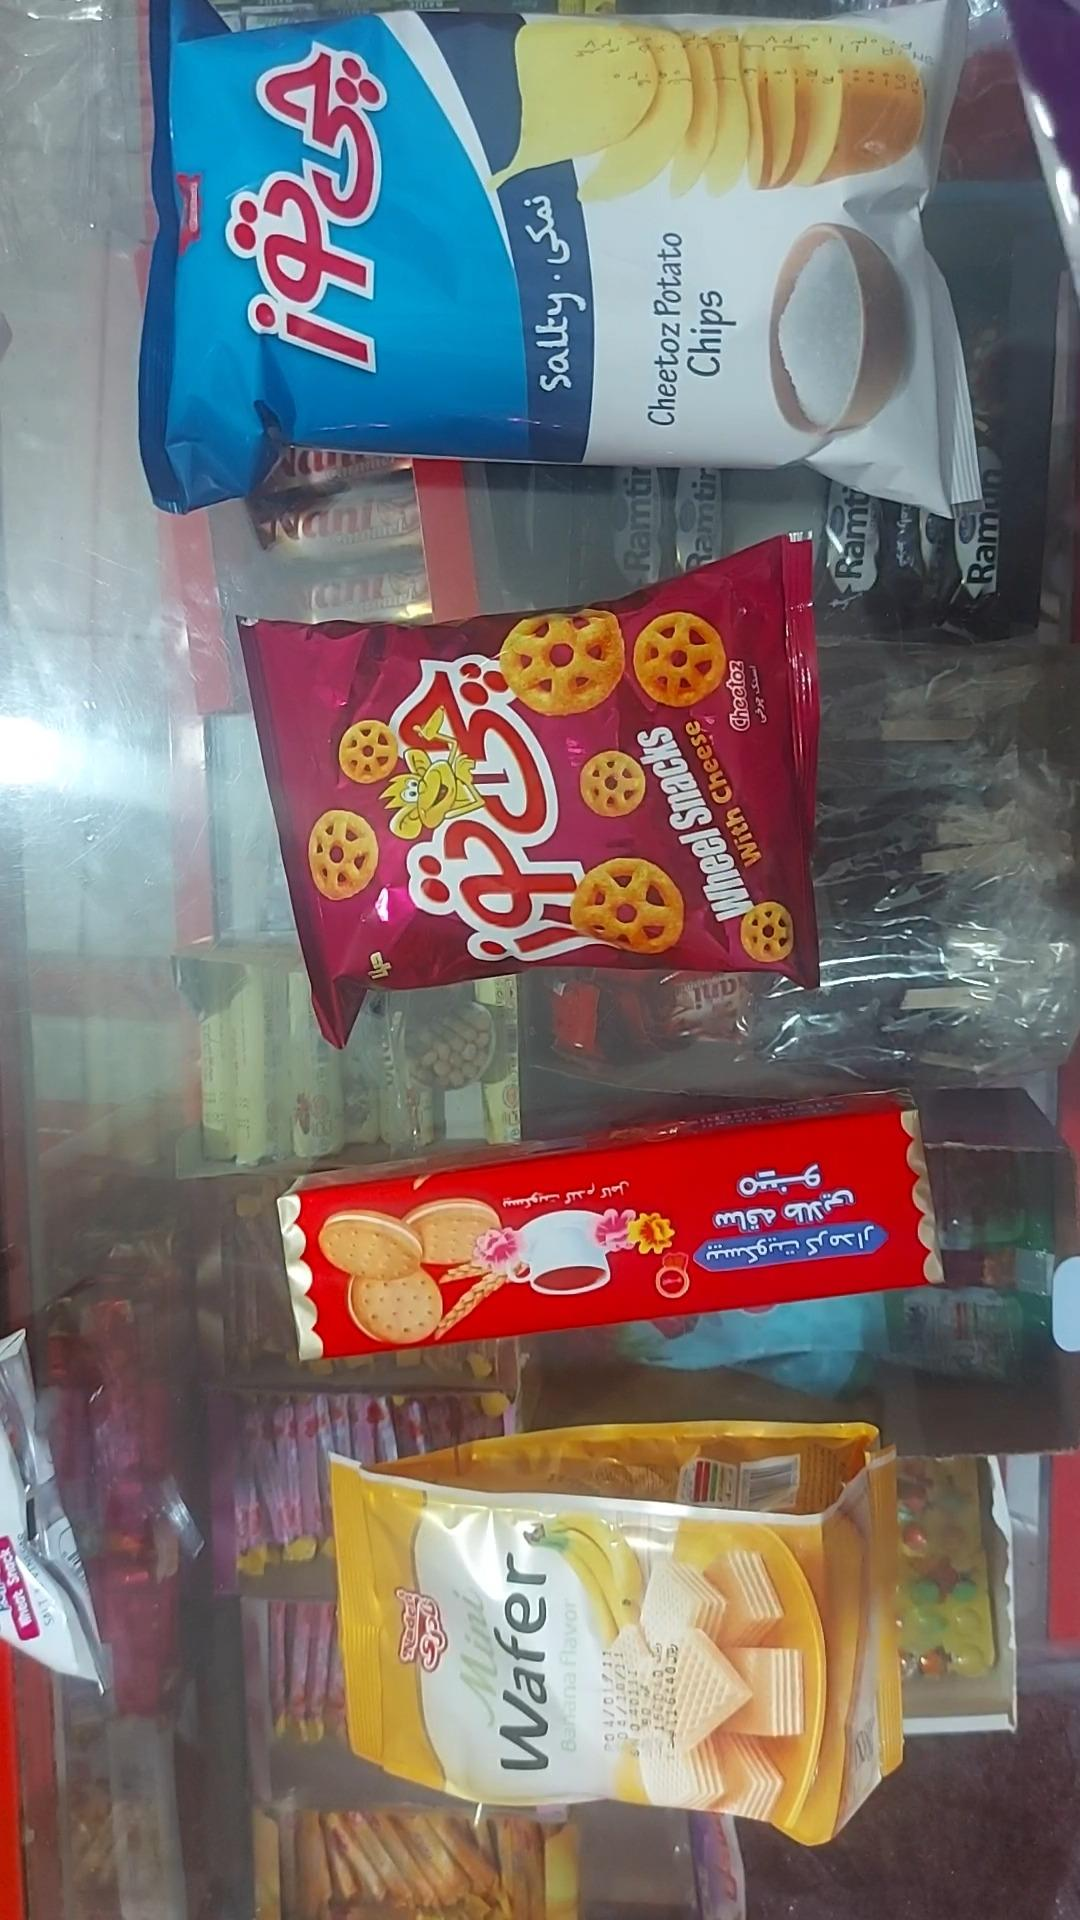Cheetoz salty chips: (137, 0, 984, 520)
Cheetoz wheelsnack: (237, 535, 822, 1054)
Minoo cream biscuit: (276, 1092, 938, 1362)
Naderi mini wafer: (328, 1422, 903, 1847)
